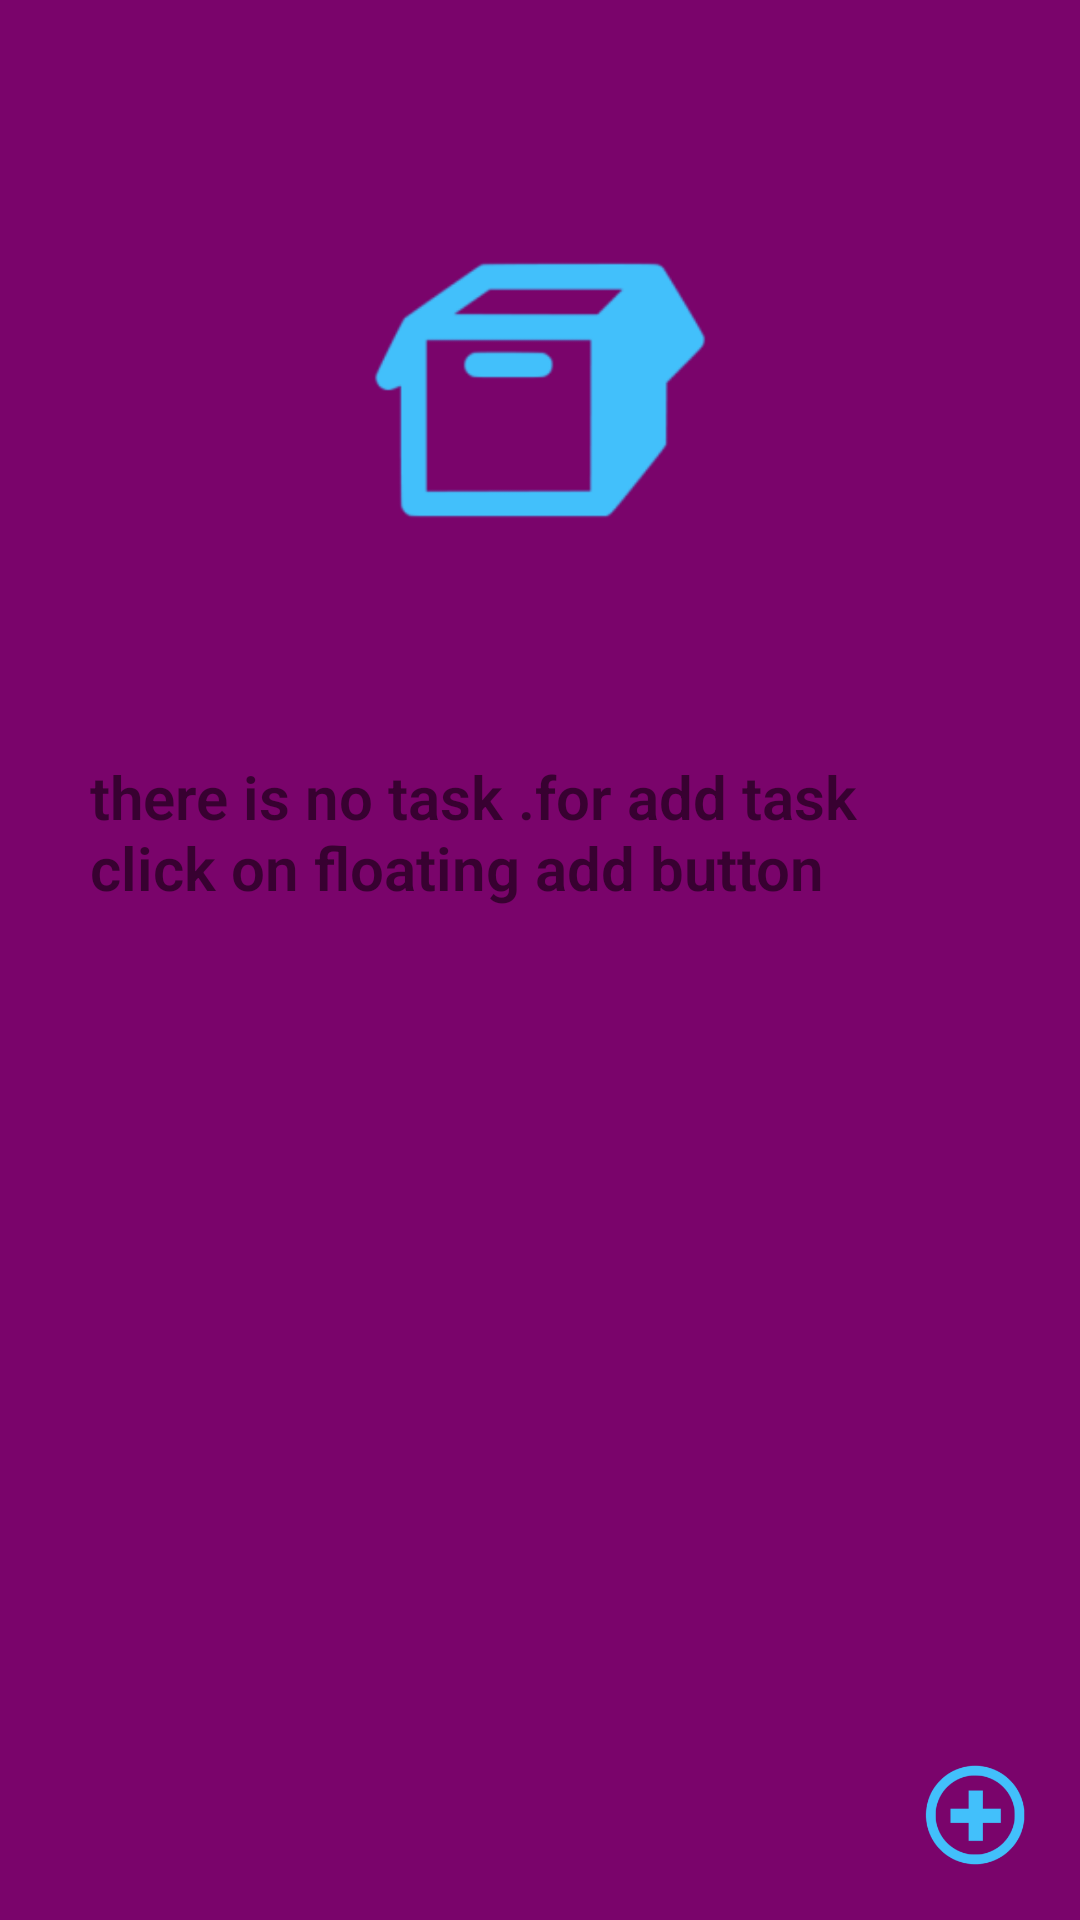

Screen size 1080*1920. Icon name, then its box in pixels as (x1, y1, x2, y2):
empty box: (375, 263, 705, 517)
plus: (926, 1765, 1025, 1865)
